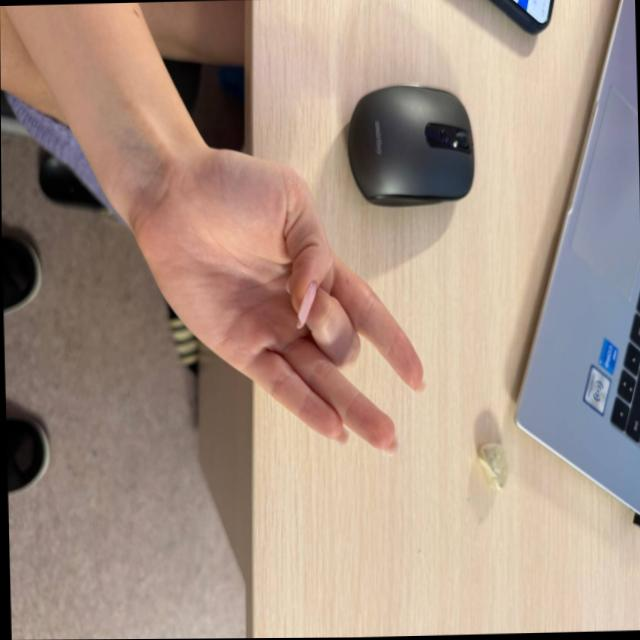r: (124, 114, 420, 478)
